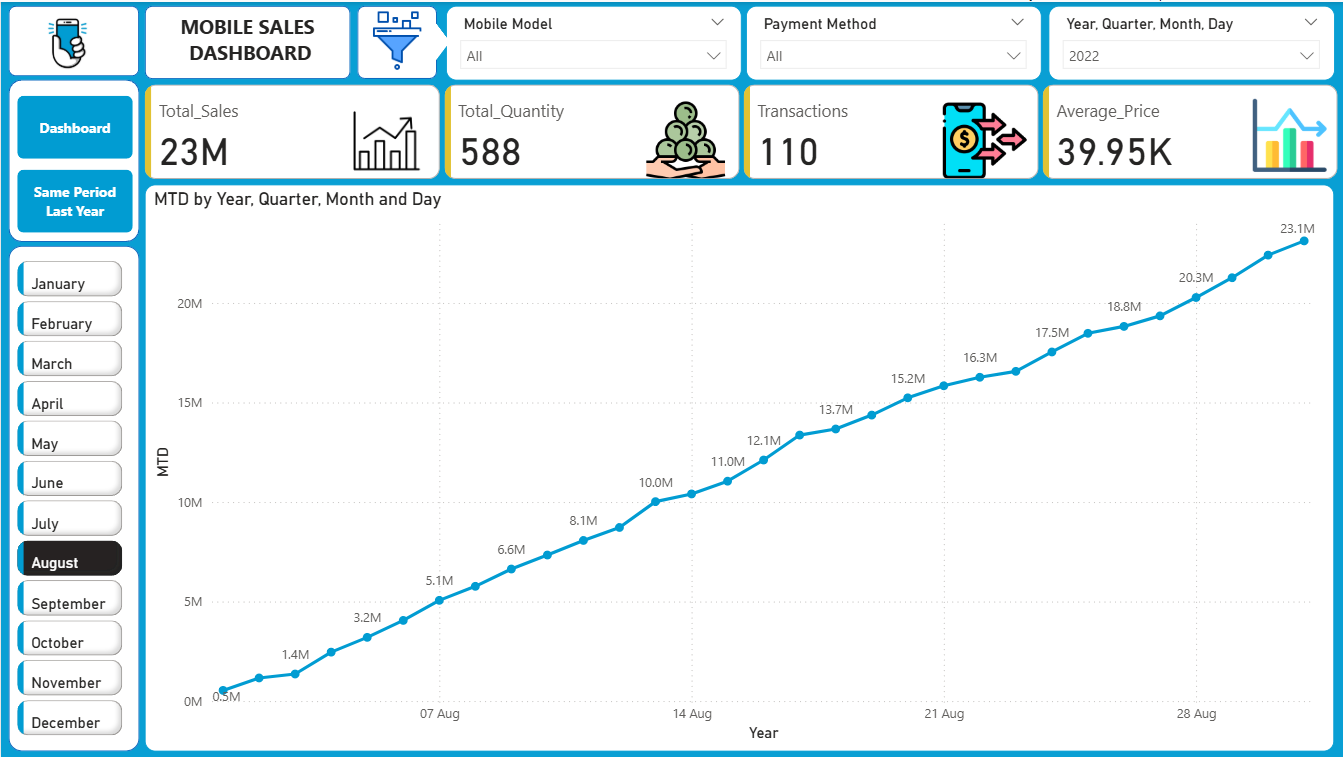

The page's visual inventory and layout, read from the dashboard file:
{"tool":"powerbi","page":{"name":"MTD Report","canvas":[1280,720],"ordinal":1},"visuals":[{"type":"shape","box":[7.5,3.8,125,67.5],"z":0},{"type":"image","box":[23.8,3.8,78.8,71.2],"z":1000},{"type":"shape","box":[7.5,73.8,125,155],"z":2000},{"type":"cardVisual","fields":{"Data":["Sales_Data.Total_Sales","Sales_Data.Total_Quantity","Sales_Data.Transactions","Sales_Data.Average_Price"]},"box":[132.5,73.8,1147.5,100],"z":3000},{"type":"slicer","fields":{"Values":["Sales_Data.Mobile Model"]},"box":[423.8,3.8,281.2,71.2],"z":4000},{"type":"slicer","fields":{"Values":["Sales_Data.Payment Method"]},"box":[710,3.8,281.2,71.2],"z":5000},{"type":"slicer","fields":{"Values":["Custom_Calendar.Date.Variation.Date Hierarchy.Year","Custom_Calendar.Date.Variation.Date Hierarchy.Quarter","Custom_Calendar.Date.Variation.Date Hierarchy.Month","Custom_Calendar.Date.Variation.Date Hierarchy.Day"]},"box":[997.5,3.8,272.5,71.2],"z":6000},{"type":"shape","box":[338.8,3.8,76.2,70],"z":7000},{"type":"image","box":[337.5,3.8,81.2,66.2],"z":8000},{"type":"shape","box":[397.5,17.5,30,40],"z":9000},{"type":"shape","box":[137.5,3.8,196.2,70],"z":10000},{"type":"textbox","box":[156.2,6.2,162.5,63.8],"z":11000},{"type":"lineChart","fields":{"Y":["Sales_Data.MTD"],"Category":["Custom_Calendar.Date.Variation.Date Hierarchy.Year","Custom_Calendar.Date.Variation.Date Hierarchy.Quarter","Custom_Calendar.Date.Variation.Date Hierarchy.Month","Custom_Calendar.Date.Variation.Date Hierarchy.Day"]},"box":[137.5,173.8,1132.5,540],"z":12000},{"type":"shape","box":[7.5,232.5,125,481.2],"z":13000},{"type":"advancedSlicerVisual","fields":{"Values":["Custom_Calendar.Date.Variation.Date Hierarchy.Month"]},"box":[11.2,241.2,110,472.5],"z":14000},{"type":"pageNavigator","box":[15,88.8,110,130],"z":15000}]}

Visuals, with their boxes in screenshot pixels (x1, y1, x2, y2), scaled from the page's 1280x720 canvas onto the 1343x757 screenshot:
shape: <region>8, 4, 139, 75</region>
image: <region>25, 4, 108, 79</region>
shape: <region>8, 78, 139, 241</region>
cardVisual - Sales_Data.Total_Sales x Sales_Data.Total_Quantity: <region>139, 78, 1342, 183</region>
slicer - Sales_Data.Mobile Model: <region>445, 4, 740, 79</region>
slicer - Sales_Data.Payment Method: <region>745, 4, 1040, 79</region>
slicer - Custom_Calendar.Date.Variation.Date Hierarchy.Year x Custom_Calendar.Date.Variation.Date Hierarchy.Quarter: <region>1047, 4, 1333, 79</region>
shape: <region>355, 4, 435, 78</region>
image: <region>354, 4, 439, 74</region>
shape: <region>417, 18, 449, 60</region>
shape: <region>144, 4, 350, 78</region>
textbox: <region>164, 7, 334, 74</region>
lineChart - Sales_Data.MTD x Custom_Calendar.Date.Variation.Date Hierarchy.Year: <region>144, 183, 1333, 750</region>
shape: <region>8, 244, 139, 750</region>
advancedSlicerVisual - Custom_Calendar.Date.Variation.Date Hierarchy.Month: <region>12, 254, 127, 750</region>
pageNavigator: <region>16, 93, 131, 230</region>
